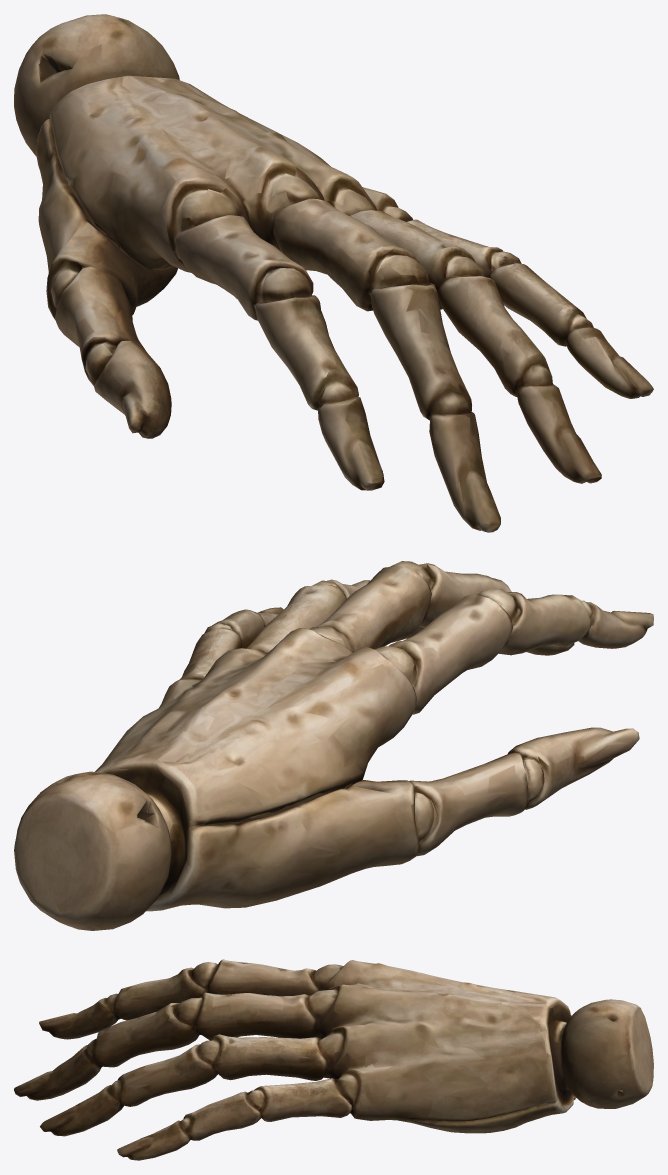
The model's file is hand.fbx.
The picture shows the model from 3 angles, top to bottom: view 1: azimuth 30°, elevation 25°; view 2: azimuth 150°, elevation 25°; view 3: azimuth 270°, elevation 25°; orthographic projection. The views are drawn at different scales.
Parts seen in each view (by area): view 1: Part; view 2: Part; view 3: Part.
Part boxes in pixels (left/top/right/bottom): Part: left=14, top=14, right=653, bottom=532; Part: left=14, top=561, right=653, bottom=930; Part: left=14, top=959, right=653, bottom=1160.
Bounding box in the file's own units: 0.0977 × 0.0402 × 0.18.
